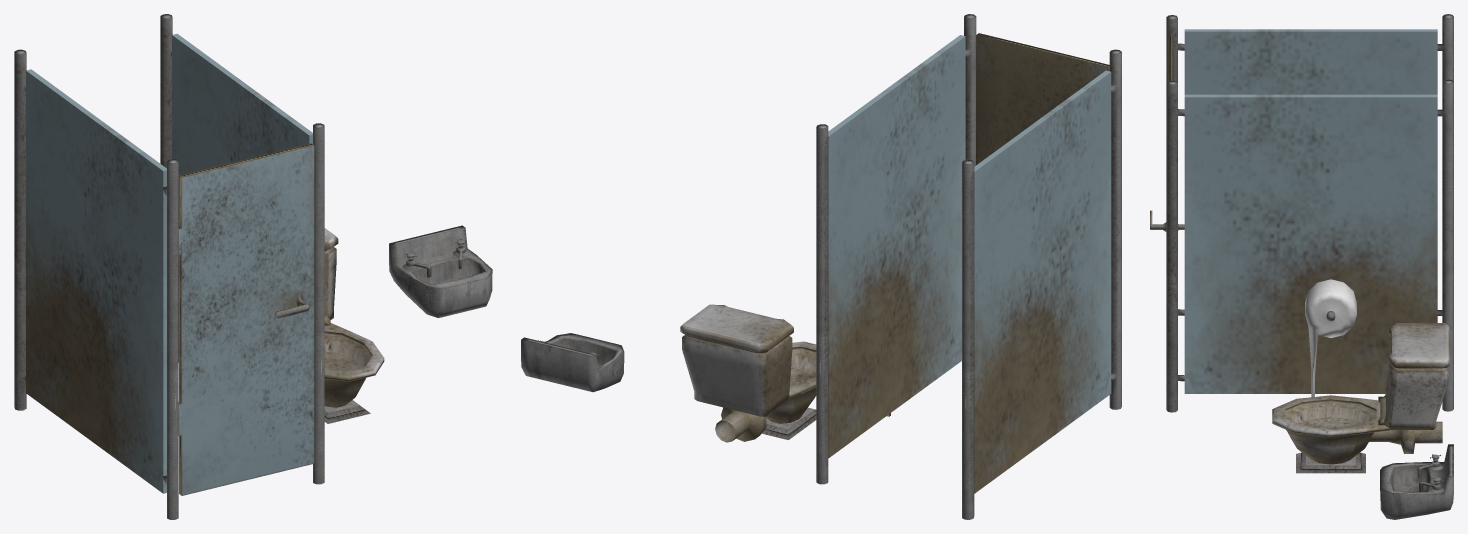
File: toilet_items_final.fbx
The picture shows the model from 3 angles, left to right: view 1: azimuth 30°, elevation 25°; view 2: azimuth 150°, elevation 25°; view 3: azimuth 270°, elevation 25°; orthographic projection. The views are drawn at different scales.
Parts seen in each view (by area): view 1: plane (×2), toilet_door, holder1 (×2), holder (×3), sink, bottom, top1; view 2: plane (×2), holder (×3), top1, toilet_door, holder1 (×2), sink, bottom, pipe; view 3: plane (×2), top1, bottom, holder (×3), holder1 (×2), sink, toilet_paper, pipe, toilet_door.
Part boxes in pixels (x1=…): plane (×2): x1=26, y1=33, x2=312, y2=493; toilet_door: x1=178, y1=143, x2=314, y2=495; holder1 (×2): x1=163, y1=123, x2=324, y2=519; holder (×3): x1=14, y1=14, x2=370, y2=423; sink: x1=389, y1=225, x2=492, y2=317; bottom: x1=324, y1=323, x2=384, y2=407; top1: x1=324, y1=228, x2=338, y2=325; plane (×2): x1=828, y1=35, x2=1111, y2=493; holder (×3): x1=762, y1=124, x2=974, y2=519; top1: x1=680, y1=304, x2=793, y2=416; toilet_door: x1=976, y1=33, x2=1109, y2=165; holder1 (×2): x1=964, y1=14, x2=1121, y2=409; sink: x1=521, y1=333, x2=624, y2=392; bottom: x1=766, y1=341, x2=816, y2=423; pipe: x1=715, y1=407, x2=766, y2=442; plane (×2): x1=1184, y1=29, x2=1437, y2=393; top1: x1=1378, y1=323, x2=1449, y2=429; bottom: x1=1272, y1=395, x2=1390, y2=464; holder (×3): x1=1296, y1=14, x2=1453, y2=473; holder1 (×2): x1=1166, y1=15, x2=1184, y2=412; sink: x1=1380, y1=444, x2=1453, y2=519; toilet_paper: x1=1305, y1=279, x2=1356, y2=397; pipe: x1=1369, y1=421, x2=1442, y2=453; toilet_door: x1=1150, y1=35, x2=1184, y2=231.
Size of the model in its own units: 82.94 by 64.42 by 52.71.
Materials: 1 (1 with a texture image).
